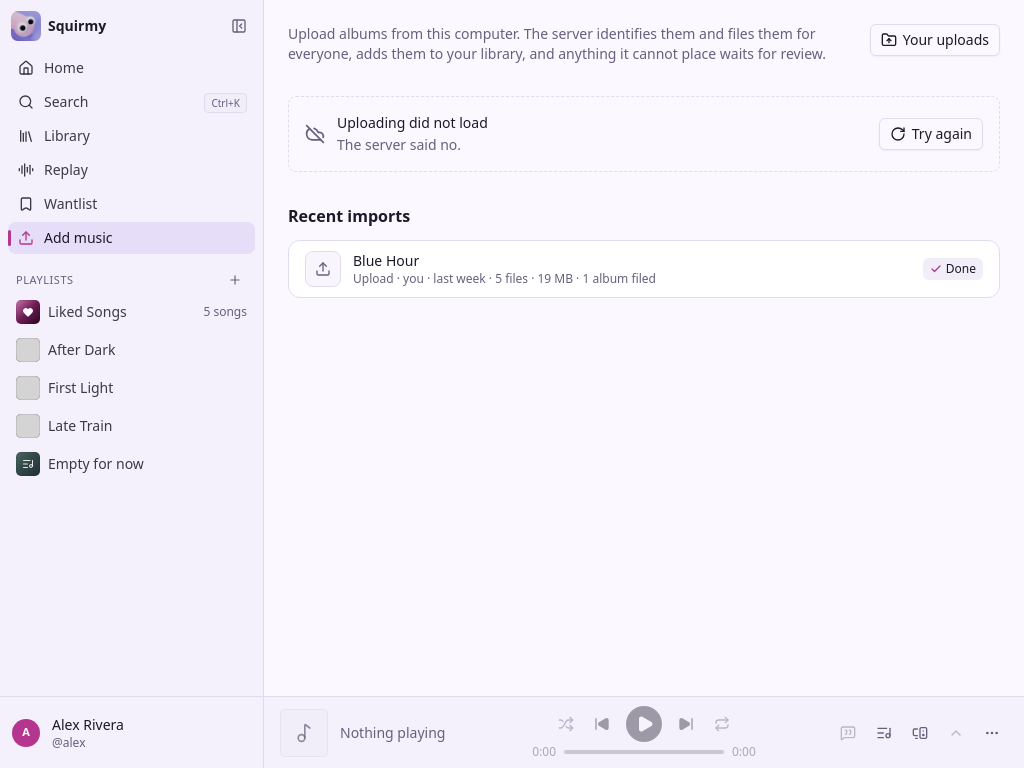
Test case: a read that fails says so where its content would be, with a retry › Add music: the upload panel fails on its own, and the imports list still shows
Expected: the message shows "Uploading did not load", [337,113,488,132]
Expected: the link "Blue Hour" is shown, [353,251,419,270]
Click the button "Try again". click: (931, 134)
box: [879,118,983,150]
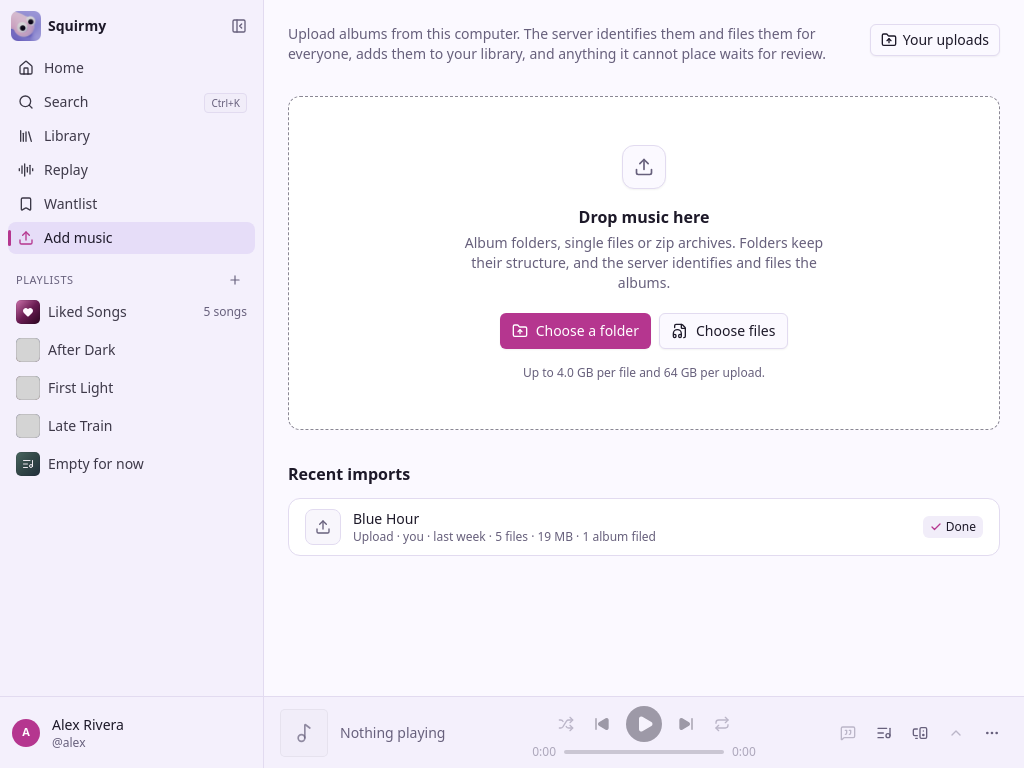
Expected: the heading "Drop music here" is shown, [579,205,709,229]
Expected: the message "Uploading did not load The server said no. Try again" is gone
